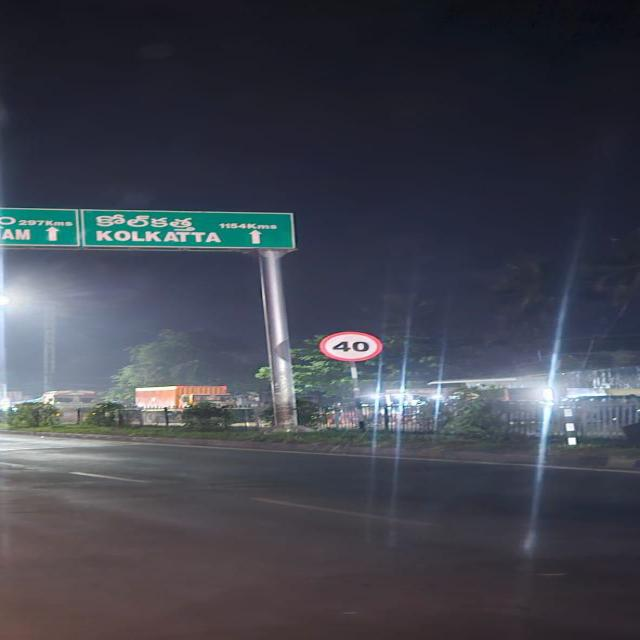speedlimit_40: (322, 332, 392, 361)
